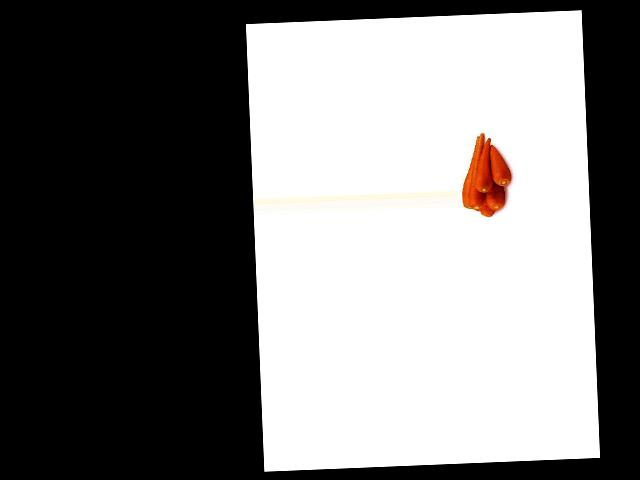carrot: (489, 141, 513, 186)
